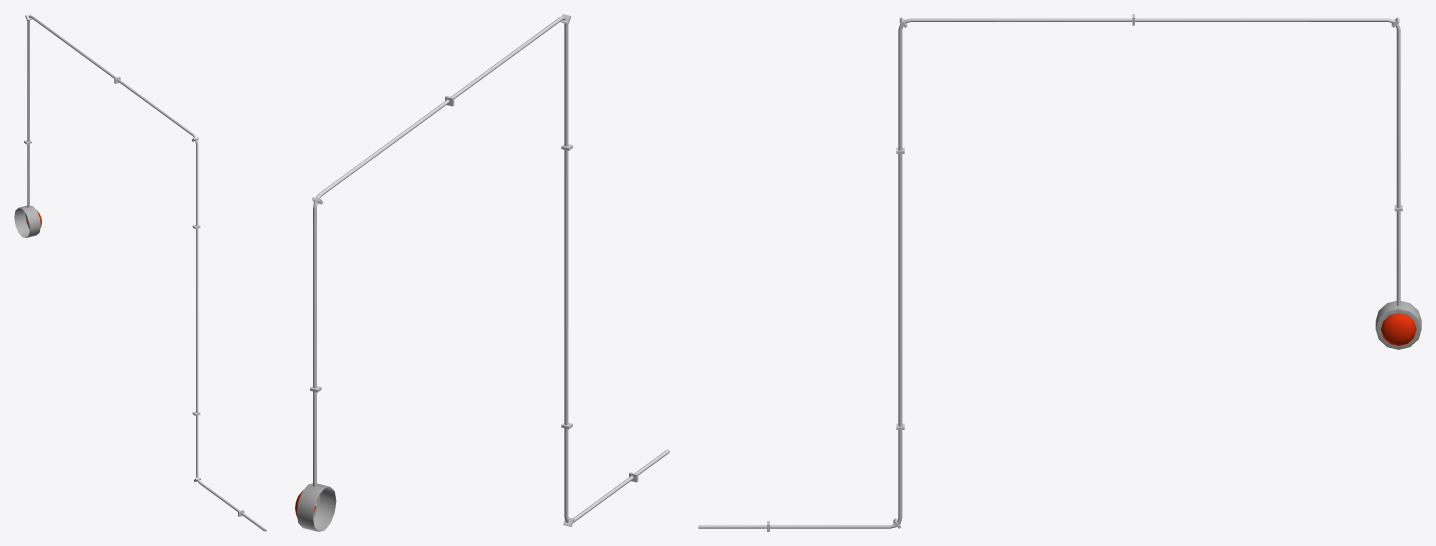
Rendered from SM_DoorButtonAgent.fbx.
3 views of the same model, side by side, from view 1: azimuth 30°, elevation 25°; view 2: azimuth 150°, elevation 25°; view 3: azimuth 270°, elevation 25° (orthographic). The views are drawn at different scales.
Parts seen in each view (by area): view 1: Cube.004, AgentButotn; view 2: Cube.004, AgentButotn; view 3: Cube.004, AgentButotn.
Boxes of the visible parts, x1=… form: Cube.004: x1=24, y1=14, x2=266, y2=531; AgentButotn: x1=14, y1=205, x2=41, y2=237; Cube.004: x1=310, y1=14, x2=669, y2=526; AgentButotn: x1=295, y1=483, x2=336, y2=531; Cube.004: x1=698, y1=14, x2=1402, y2=531; AgentButotn: x1=1375, y1=301, x2=1421, y2=349.
Bounding box in the file's own units: 10.86 × 207 × 264.
